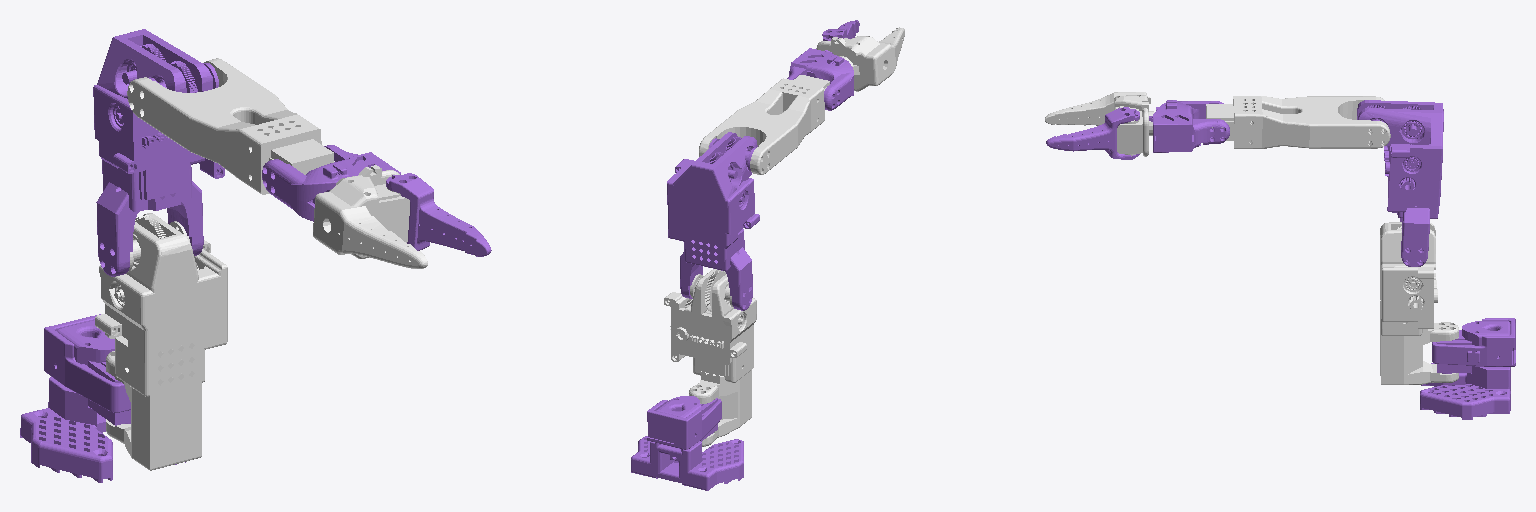
The robot description file, URDF, robot "soarmoce_urdf":
<?xml version='1.0' encoding='utf-8'?>
<robot name="soarmoce_urdf">

  <material name="white">
    <color rgba="0.95 0.95 0.95 1.0"/>
  </material>
  <material name="light_purple">
    <color rgba="0.7 0.5 0.9 1.0"/> </material>

  <link name="base">
    <inertial>
      <origin xyz="-0.0213710291112311 0.00673783911516032 -0.00351495988159654" rpy="0 0 0" />
      <mass value="0.184824839118779" />
      <inertia ixx="0.00014009159032767" ixy="5.14519314311599E-07" ixz="-2.19658664772978E-09" iyy="0.000150786507732308" iyz="-2.12017725499654E-05" izz="0.000176488838164293" />
    </inertial>
    <visual>
      <origin xyz="0 0 0" rpy="0 0 0" />
      <geometry>
        <mesh filename="../meshes/base.STL" />
      </geometry>
      <material name="light_purple" /> </visual>
    <collision>
      <origin xyz="0 0 0" rpy="0 0 0" />
      <geometry>
        <mesh filename="../meshes/base.STL" />
      </geometry>
    </collision>
  </link>

  <link name="shoulder">
    <inertial>
      <origin xyz="0.00431599372955423 -0.0391066695085737 0.0394888931376483" rpy="0 0 0" />
      <mass value="0.330894394655736" />
      <inertia ixx="0.000505546415051645" ixy="1.59518610653644E-06" ixz="-2.12499303650484E-05" iyy="0.000517530931668442" iyz="2.19651351970439E-05" izz="0.000127646885959192" />
    </inertial>
    <visual>
      <origin xyz="0 0 0" rpy="0 0 0" />
      <geometry>
        <mesh filename="../meshes/shoulder.STL" />
      </geometry>
      <material name="white" /> </visual>
    <collision>
      <origin xyz="0 0 0" rpy="0 0 0" />
      <geometry>
        <mesh filename="../meshes/shoulder.STL" />
      </geometry>
    </collision>
  </link>

  <joint name="shoulder" type="revolute">
    <origin xyz="-0.021301 -0.019892 0.030313" rpy="0 0 0" />
    <parent link="base" />
    <child link="shoulder" />
    <axis xyz="0 0 -1" />
    <limit lower="-1.80000000" upper="1.80000000" effort="0" velocity="0" />
  </joint>

  <link name="shoulder_lift">
    <inertial>
      <origin xyz="-0.00324515070732309 0.0871957526382336 -0.0192601707678897" rpy="0 0 0" />
      <mass value="0.318710272679807" />
      <inertia ixx="0.000385454470204287" ixy="1.03441801394726E-05" ixz="-4.42203916060576E-06" iyy="0.000148614476916783" iyz="-4.60533290521661E-06" izz="0.000351054172172908" />
    </inertial>
    <visual>
      <origin xyz="0 0 0" rpy="0 0 0" />
      <geometry>
        <mesh filename="../meshes/shoulder_lift.STL" />
      </geometry>
      <material name="light_purple" /> </visual>
    <collision>
      <origin xyz="0 0 0" rpy="0 0 0" />
      <geometry>
        <mesh filename="../meshes/shoulder_lift.STL" />
      </geometry>
    </collision>
  </link>

  <joint name="shoulder_lift" type="revolute">
    <origin xyz="0.023908 -0.031327 0.098856" rpy="1.5708 0 1.5995" />
    <parent link="shoulder" />
    <child link="shoulder_lift" />
    <axis xyz="0 0 1" />
    <limit lower="-1.30000000" upper="1.30000000" effort="0" velocity="0" />
  </joint>

  <link name="elbow">
    <inertial>
      <origin xyz="-0.0832422888745699 0.0012113725012361 -0.0229169222713259" rpy="0 0 0" />
      <mass value="0.196597009085825" />
      <inertia ixx="7.92771752202201E-05" ixy="2.84545189052244E-06" ixz="-9.55291703398484E-07" iyy="0.000273362808050137" iyz="1.45502230872918E-08" izz="0.000221473559394089" />
    </inertial>
    <visual>
      <origin xyz="0 0 0" rpy="0 0 0" />
      <geometry>
        <mesh filename="../meshes/elbow.STL" />
      </geometry>
      <material name="white" /> </visual>
    <collision>
      <origin xyz="0 0 0" rpy="0 0 0" />
      <geometry>
        <mesh filename="../meshes/elbow.STL" />
      </geometry>
    </collision>
  </link>

  <joint name="elbow" type="revolute">
    <origin xyz="-0.036111 0.12717 0.0005" rpy="0 0 0" />
    <parent link="shoulder_lift" />
    <child link="elbow" />
    <axis xyz="0 0 1" />
    <limit lower="-1.30000000" upper="1.30000000" effort="0" velocity="0" />
  </joint>

  <link name="wrist">
    <inertial>
      <origin xyz="-0.0353175824991667 9.81394374997002E-05 -0.0115136241068137" rpy="0 0 0" />
      <mass value="0.0706755636018164" />
      <inertia ixx="2.50939659898496E-05" ixy="8.58894507660815E-08" ixz="1.80285269647734E-06" iyy="3.5303799120401E-05" iyz="-1.3972021213463E-08" izz="1.99042479760721E-05" />
    </inertial>
    <visual>
      <origin xyz="0 0 0" rpy="0 0 0" />
      <geometry>
        <mesh filename="../meshes/wrist.STL" />
      </geometry>
      <material name="light_purple" /> </visual>
    <collision>
      <origin xyz="0 0 0" rpy="0 0 0" />
      <geometry>
        <mesh filename="../meshes/wrist.STL" />
      </geometry>
    </collision>
  </link>

  <joint name="wrist" type="revolute">
    <origin xyz="-0.15298 0.0021767 -0.003775" rpy="0 0 0" />
    <parent link="elbow" />
    <child link="wrist" />
    <axis xyz="0 0 1" />
    <limit lower="-1.30000000" upper="1.30000000" effort="0" velocity="0" />
  </joint>

  <link name="wrist_roll">
    <inertial>
      <origin xyz="-0.00534613057929257 0.000346192094794529 0.0265827947892246" rpy="0 0 0" />
      <mass value="0.0950264154360078" />
      <inertia ixx="4.26677683482621E-05" ixy="1.12540757127494E-06" ixz="6.80533672926815E-06" iyy="4.97447971463551E-05" iyz="-6.51926853197085E-07" izz="3.08661473876812E-05" />
    </inertial>
    <visual>
      <origin xyz="0 0 0" rpy="0 0 0" />
      <geometry>
        <mesh filename="../meshes/wrist_roll.STL" />
      </geometry>
      <material name="white" /> </visual>
    <collision>
      <origin xyz="0 0 0" rpy="0 0 0" />
      <geometry>
        <mesh filename="../meshes/wrist_roll.STL" />
      </geometry>
    </collision>
  </link>

  <joint name="wrist_roll" type="revolute">
    <origin xyz="-0.061125 -0.00012939 -0.01895" rpy="0 -1.5708 0" />
    <parent link="wrist" />
    <child link="wrist_roll" />
    <axis xyz="0 0 -1" />
    <limit lower="-1.30000000" upper="1.30000000" effort="0" velocity="0" />
  </joint>

  <link name="gripper">
    <inertial>
      <origin xyz="0.0285152293814781 -0.0095219501591718 -0.0201256423347853" rpy="0 0 0" />
      <mass value="0.0206924066827897" />
      <inertia ixx="3.97506525437174E-06" ixy="2.37013710361177E-06" ixz="-1.80060833370411E-07" iyy="1.06886637310619E-05" iyz="5.98671833426615E-08" izz="9.11569538825076E-06" />
    </inertial>
    <visual>
      <origin xyz="0 0 0" rpy="0 0 0" />
      <geometry>
        <mesh filename="../meshes/gripper.STL" />
      </geometry>
      <material name="light_purple" /> </visual>
    <collision>
      <origin xyz="0 0 0" rpy="0 0 0" />
      <geometry>
        <mesh filename="../meshes/gripper.STL" />
      </geometry>
    </collision>
  </link>

  <joint name="gripper" type="revolute">
    <origin xyz="0.018466 -0.020147 0.023375" rpy="-1.5708 -1.5492 3.0625" />
    <parent link="wrist_roll" />
    <child link="gripper" />
    <axis xyz="0 0 -1" />
    <limit lower="-0.50000000" upper="1.30000000" effort="0" velocity="0" />
  </joint>
</robot>

--- Facts derived from the render (not from the file) ---
The picture shows the robot from 3 angles, left to right: view 1: azimuth 30°, elevation 25°; view 2: azimuth 150°, elevation 25°; view 3: azimuth 270°, elevation 25°; orthographic projection.
Model soarmoce_urdf with 7 links and 6 joints (6 revolute), rooted at base, posed every joint at zero.
Visible links, largest first — view 1: shoulder, shoulder_lift, elbow, base, wrist_roll, gripper, wrist; view 2: shoulder_lift, shoulder, base, elbow, wrist_roll, wrist; view 3: shoulder_lift, shoulder, elbow, base, wrist, wrist_roll, gripper.
Boxes of the visible links, x1=… form: shoulder: x1=95, y1=213, x2=227, y2=470; shoulder_lift: x1=93, y1=29, x2=224, y2=276; elbow: x1=127, y1=58, x2=334, y2=194; base: x1=20, y1=314, x2=185, y2=482; wrist_roll: x1=313, y1=165, x2=427, y2=268; gripper: x1=386, y1=173, x2=491, y2=256; wrist: x1=262, y1=145, x2=400, y2=221; shoulder_lift: x1=667, y1=132, x2=759, y2=310; shoulder: x1=664, y1=269, x2=756, y2=446; base: x1=631, y1=396, x2=743, y2=490; elbow: x1=699, y1=75, x2=829, y2=174; wrist_roll: x1=816, y1=27, x2=904, y2=91; wrist: x1=787, y1=48, x2=853, y2=110; shoulder_lift: x1=1357, y1=100, x2=1443, y2=266; shoulder: x1=1380, y1=222, x2=1458, y2=384; elbow: x1=1206, y1=96, x2=1390, y2=148; base: x1=1420, y1=318, x2=1515, y2=419; wrist: x1=1149, y1=100, x2=1229, y2=152; wrist_roll: x1=1045, y1=92, x2=1154, y2=156; gripper: x1=1046, y1=107, x2=1139, y2=159.
Size in the robot's own frame: 0.1109 by 0.4526 by 0.3203 metres.
7 mesh visuals loaded from 7 distinct referenced files (7 binary STL).
